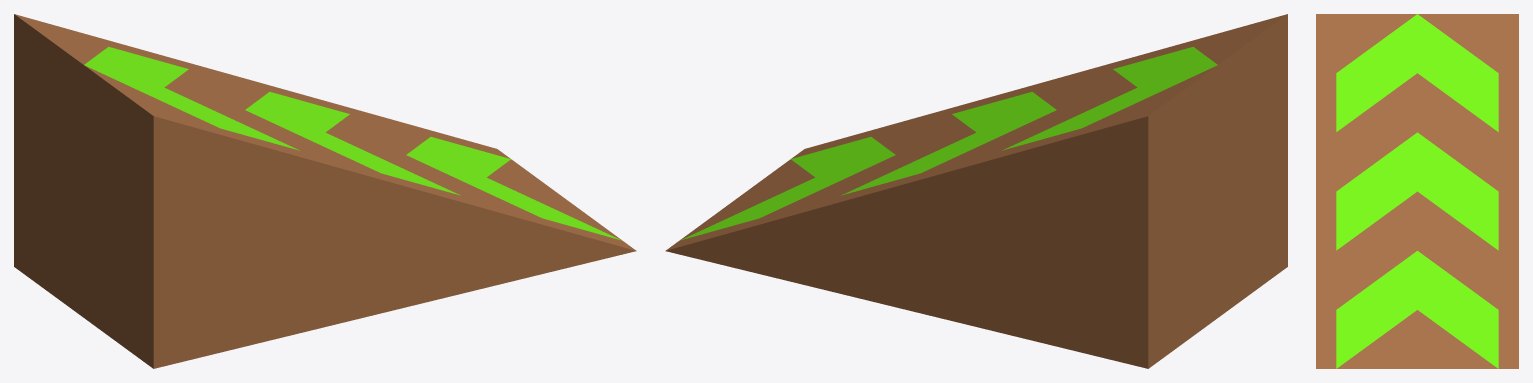
The model's file is Prop_Track_Ramp_Speed_Boost.obj.
3 views of the same model, side by side, from view 1: azimuth 30°, elevation 25°; view 2: azimuth 150°, elevation 25°; view 3: azimuth 270°, elevation 25° (orthographic). The views are drawn at different scales.
Parts seen in each view (by area): view 1: Ramp_Side, Ramp_Top, Green_Boost; view 2: Ramp_Side, Ramp_Top, Green_Boost; view 3: Ramp_Top, Green_Boost.
Part boxes in pixels (<box>): Ramp_Side: <box>14,14,636,368</box>; Ramp_Top: <box>14,14,636,250</box>; Green_Boost: <box>84,46,621,240</box>; Ramp_Side: <box>665,14,1287,368</box>; Ramp_Top: <box>665,14,1287,250</box>; Green_Boost: <box>680,46,1217,240</box>; Ramp_Top: <box>1316,14,1518,368</box>; Green_Boost: <box>1336,14,1498,368</box>.
Size of the model in its own units: 2 by 1 by 1.
